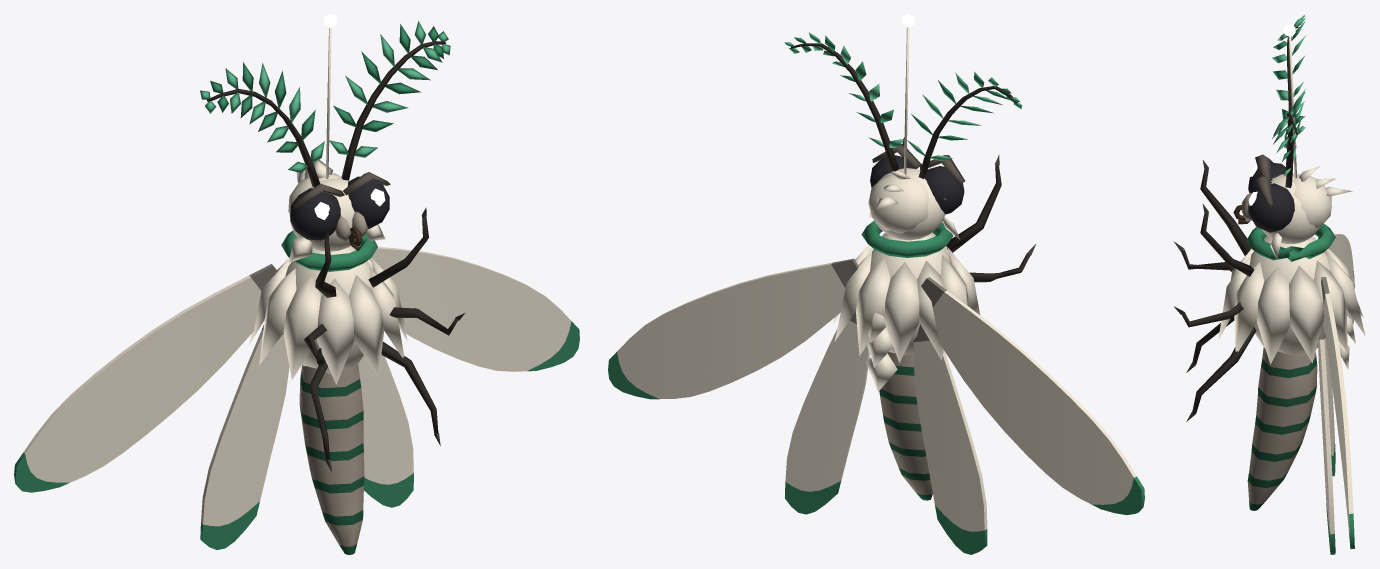
Rendered from moth-ghost.glb.
3 renders of one model, left to right at view 1: azimuth 30°, elevation 25°; view 2: azimuth 150°, elevation 25°; view 3: azimuth 270°, elevation 25°, orthographic. The views are drawn at different scales.
Visible parts, largest first — view 1: glide_wing_1, glide_wing_0, body, pulse_abdomen, sway_feeler_l, sway_feeler_r, turn_head, blink_eye_r, blink_eye_l; view 2: glide_wing_0, glide_wing_1, body, turn_head, pulse_abdomen, sway_feeler_l, sway_feeler_r, blink_eye_r; view 3: body, pulse_abdomen, glide_wing_0, turn_head, blink_eye_l, glide_wing_1, sway_feeler_r, sway_feeler_l, sway_hang, blink_eye_r.
Part boxes in pixels (x1,y1,x2,y2): glide_wing_1: [14, 264, 289, 549]; glide_wing_0: [358, 246, 579, 507]; body: [249, 207, 464, 472]; pulse_abdomen: [299, 364, 364, 554]; sway_feeler_l: [329, 21, 450, 180]; sway_feeler_r: [200, 62, 324, 187]; turn_head: [288, 159, 390, 262]; blink_eye_r: [290, 188, 340, 240]; blink_eye_l: [347, 176, 389, 228]; glide_wing_0: [608, 258, 869, 514]; glide_wing_1: [913, 277, 1144, 554]; body: [833, 137, 1035, 391]; turn_head: [868, 144, 964, 240]; pulse_abdomen: [879, 352, 932, 500]; sway_feeler_l: [784, 32, 902, 171]; sway_feeler_r: [907, 71, 1022, 178]; blink_eye_r: [925, 166, 964, 214]; body: [1173, 160, 1365, 421]; pulse_abdomen: [1247, 347, 1317, 510]; glide_wing_0: [1318, 276, 1354, 554]; turn_head: [1233, 154, 1352, 259]; blink_eye_l: [1248, 183, 1294, 232]; glide_wing_1: [1324, 234, 1354, 476]; sway_feeler_r: [1272, 15, 1305, 170]; sway_feeler_l: [1272, 89, 1305, 187]; sway_hang: [1283, 24, 1296, 178]; blink_eye_r: [1248, 162, 1292, 193].
Bounding box in the file's own units: 0.9159 × 0.8224 × 0.2923.
